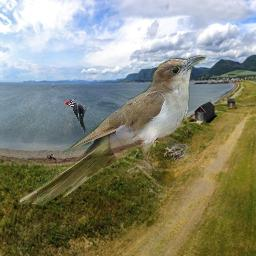Cuckoo: (18, 55, 207, 206)
Woodpecker: (64, 98, 89, 134)
